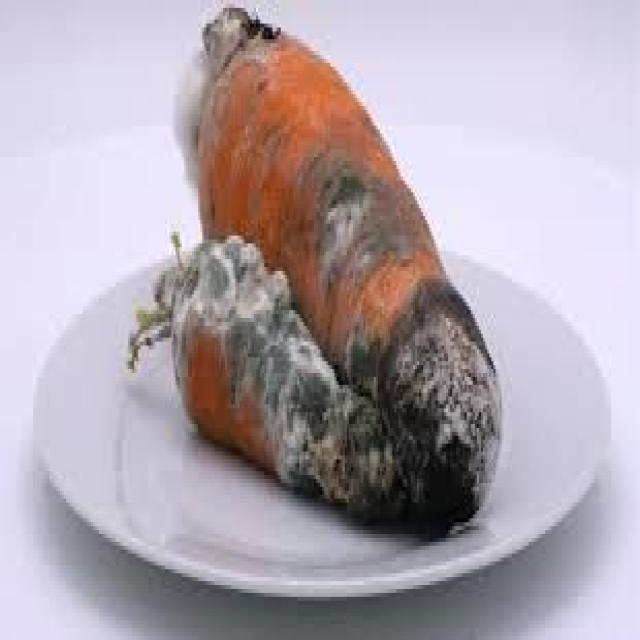Stale_Carrot: (156, 0, 503, 516)
